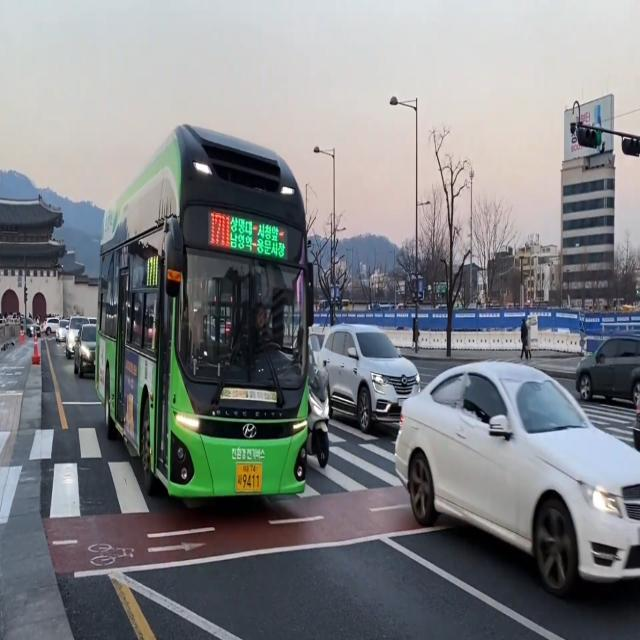bus-number: (210, 210, 231, 250)
